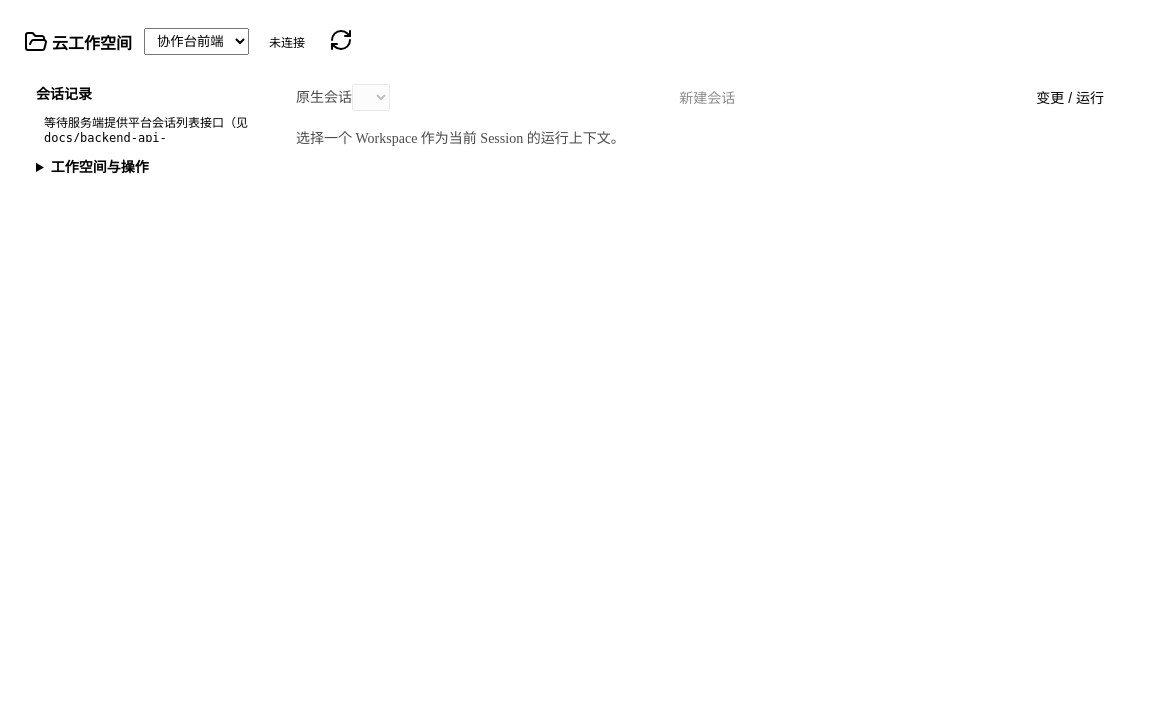
CloudWorkspacesView › shows the run error code and stage timeline from the run detail
Step 1. Click the button with aria-label "打开变更与运行面板" → (1070, 97), box [1024, 83, 1116, 111]
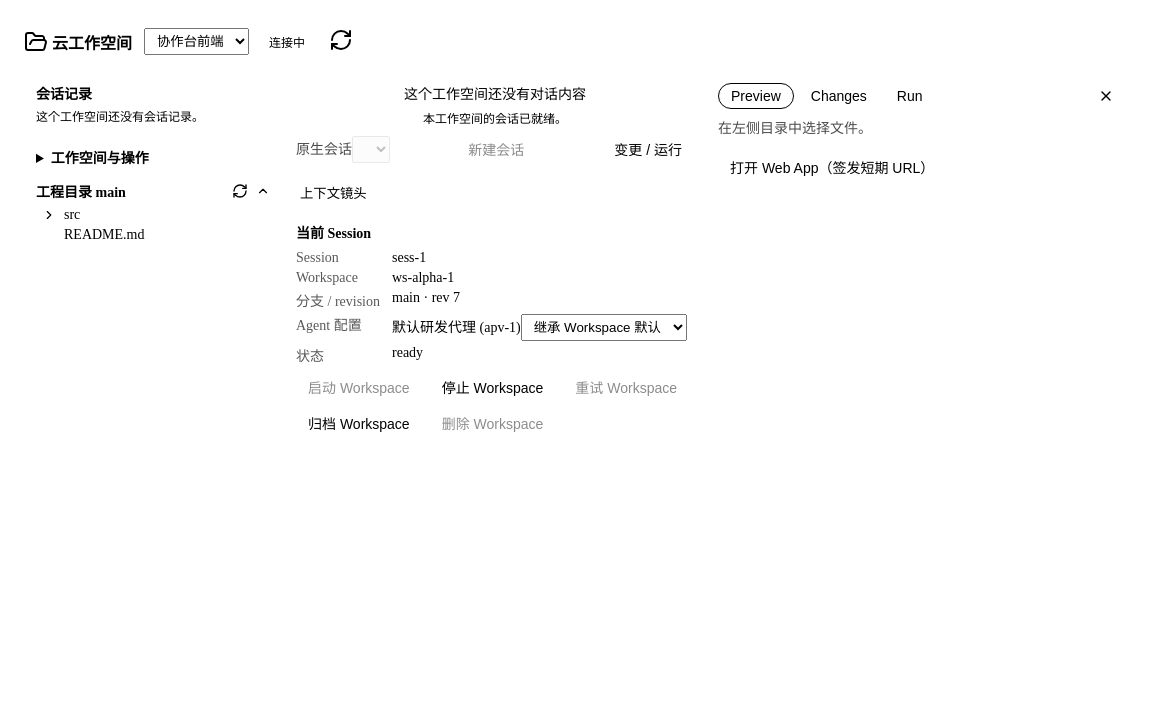
Step 2. Click the tab "Run" → (910, 96), box [884, 83, 936, 109]
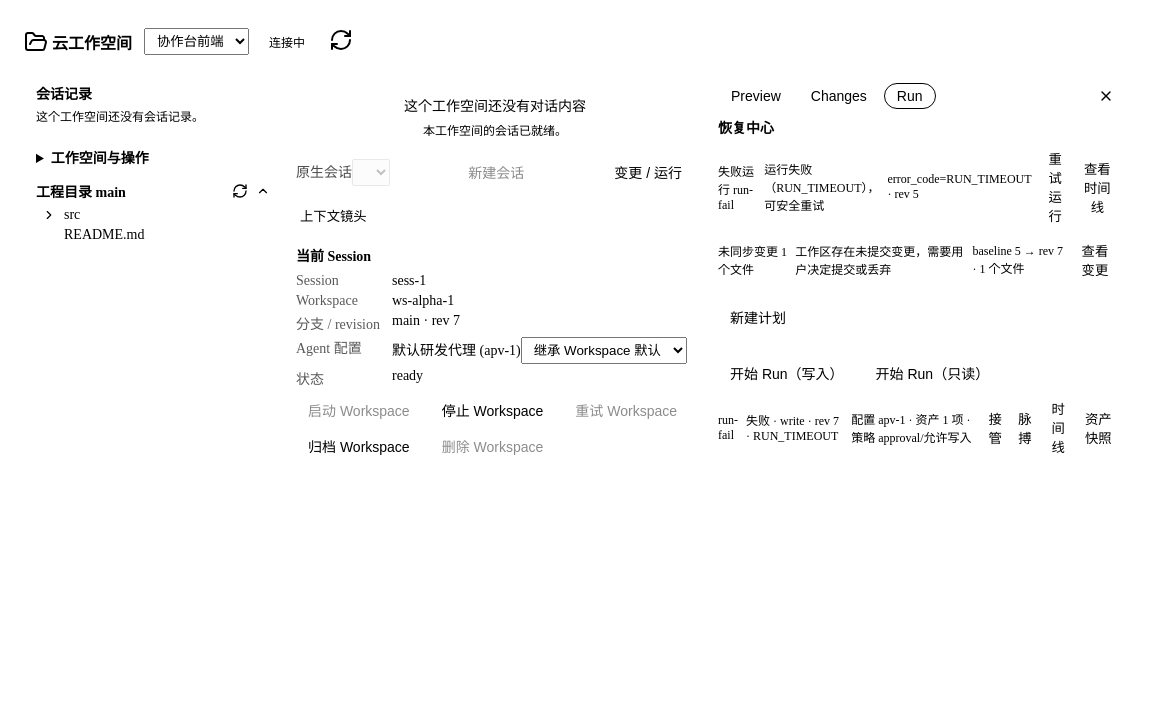
Result: the text "run-fail" is shown at [718, 412, 738, 442]
Result: the text "运行失败（RUN_TIMEOUT），可安全重试" is shown at [764, 160, 880, 214]
Step 3. Click the button "时间线" → (1058, 428), box [1044, 395, 1072, 460]
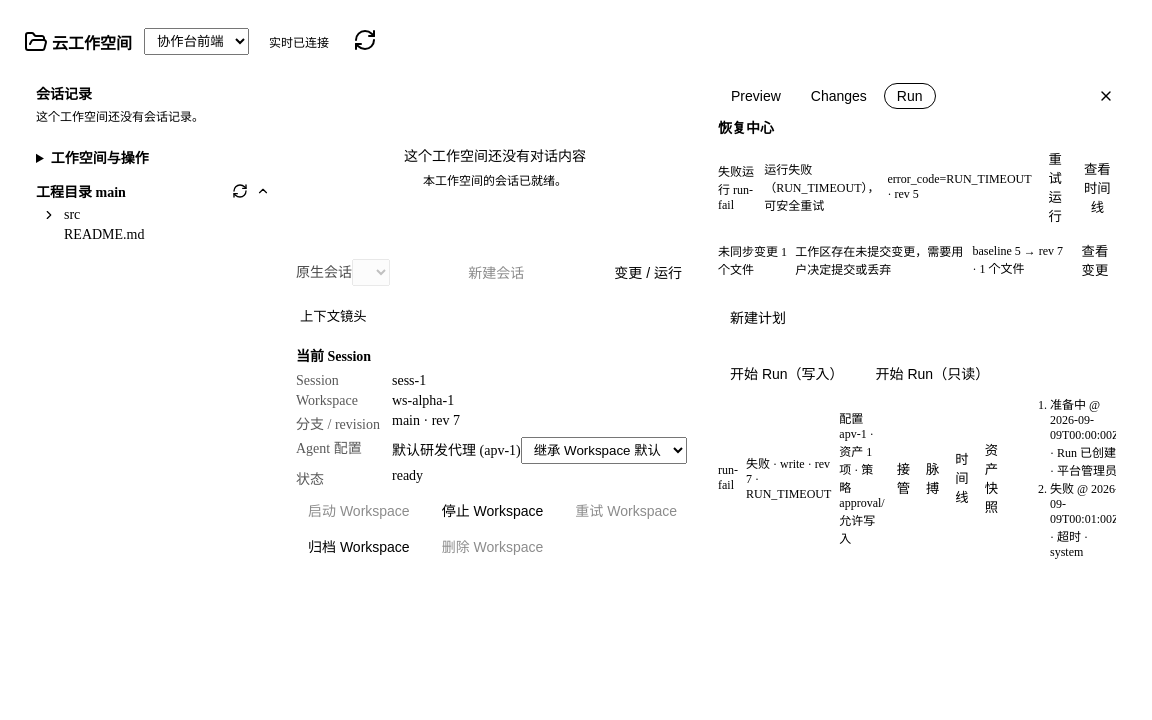
Result: the list item "失败 @ 2026-09-09T00:01:00Z · 超时 · system" is shown at [1050, 479, 1116, 560]
